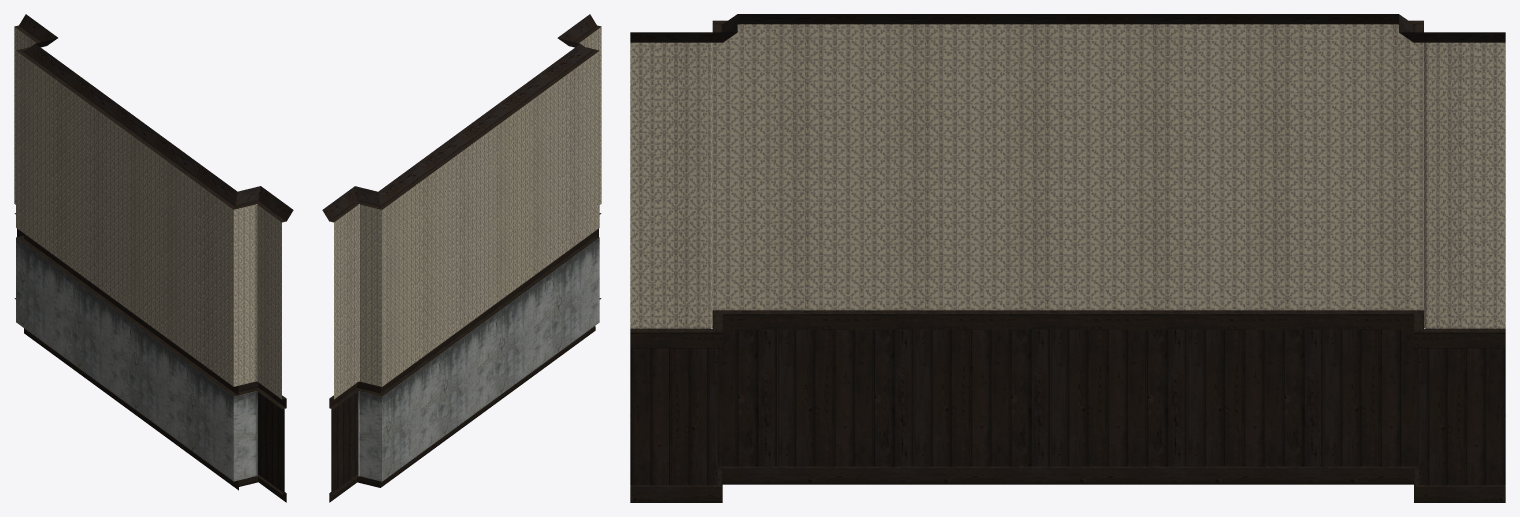
Rendered from #LVL_Wall_Clean.fbx.
The picture shows the model from 3 angles, left to right: view 1: azimuth 30°, elevation 25°; view 2: azimuth 150°, elevation 25°; view 3: azimuth 270°, elevation 25°; orthographic projection. The views are drawn at different scales.
Parts seen in each view (by area): view 1: Cube_004; view 2: Cube_004; view 3: Cube_004.
Part boxes in pixels (x1,y1,x2,y2): Cube_004: (14,14,293,502); Cube_004: (322,14,601,502); Cube_004: (630,14,1505,502).
Size of the model in its own units: 1.5 by 12 by 20.
